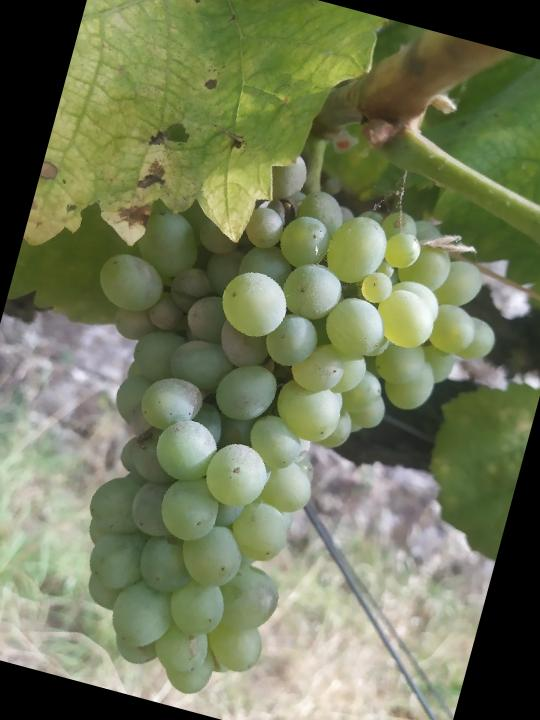grape: (0, 111, 532, 720)
